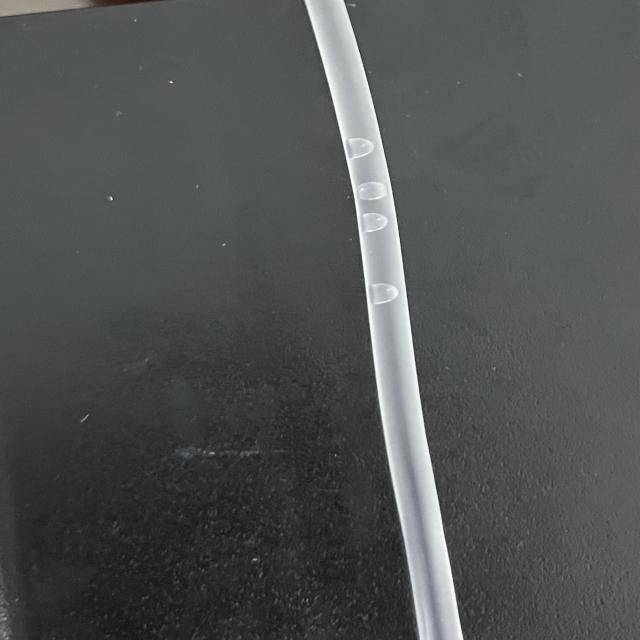bubble: (349, 279, 430, 320), (347, 211, 410, 244), (346, 128, 400, 162), (349, 178, 410, 204)
